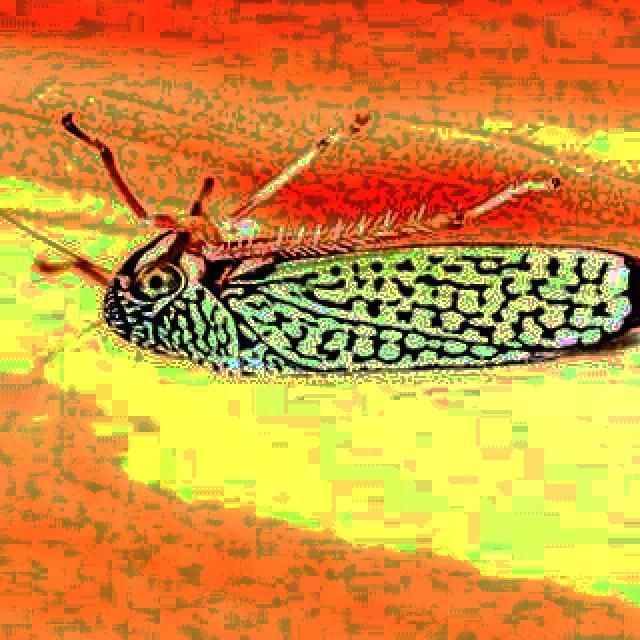green-leafhopper: (87, 205, 640, 384)
